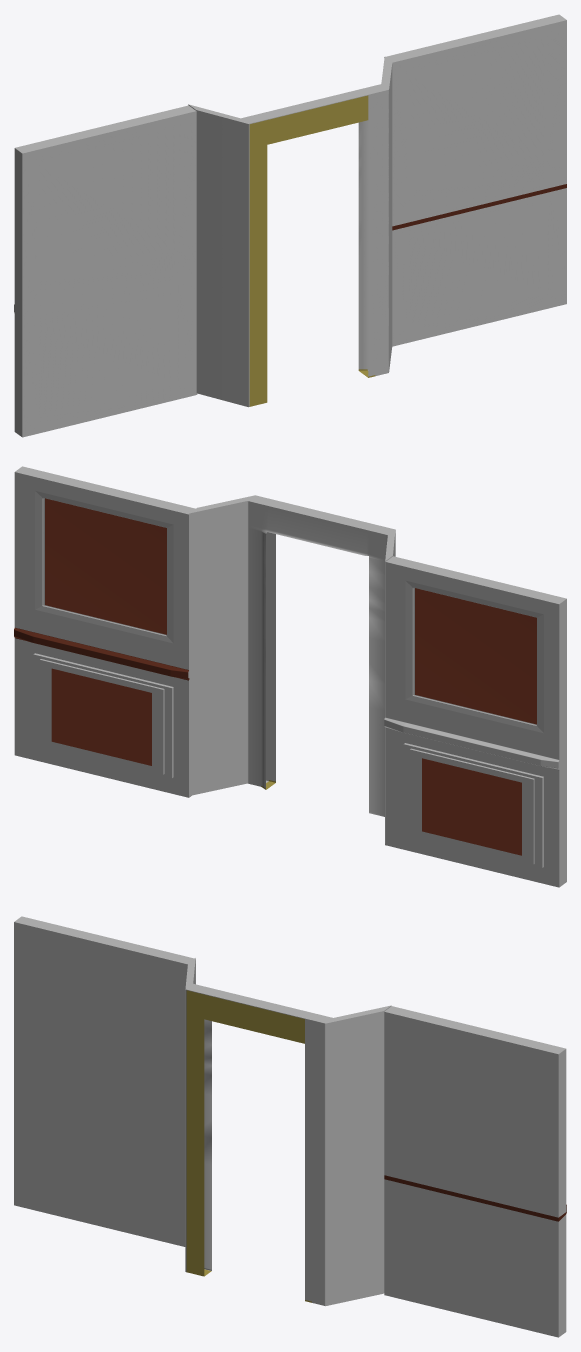
File: Walls.fbx
3 renders of one model, top to bottom at view 1: azimuth 30°, elevation 25°; view 2: azimuth 150°, elevation 25°; view 3: azimuth 330°, elevation 25°, orthographic.
Parts seen in each view (by area): view 1: Walls; view 2: Walls; view 3: Walls.
Part boxes in pixels (x1,y1,x2,y2): Walls: [14, 14, 566, 437]; Walls: [14, 466, 566, 887]; Walls: [14, 916, 566, 1337].
Bounding box in the file's own units: 2883 × 1440 × 351.
